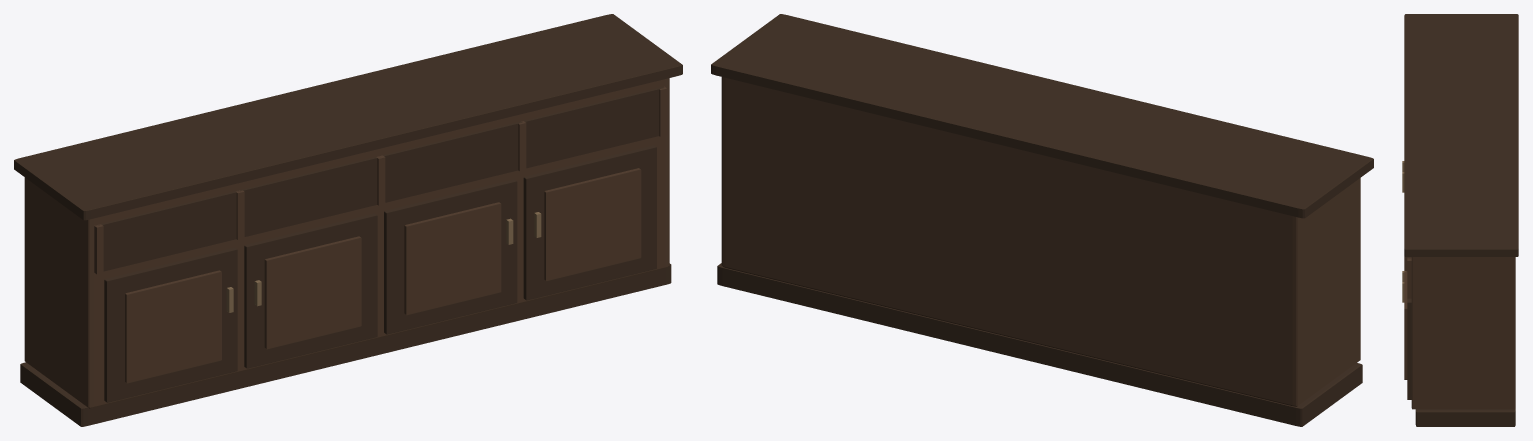
The model's file is dr_cred.glb.
The picture shows the model from 3 angles, left to right: view 1: azimuth 30°, elevation 25°; view 2: azimuth 150°, elevation 25°; view 3: azimuth 270°, elevation 25°; orthographic projection. The views are drawn at different scales.
Parts seen in each view (by area): view 1: dr_cred; view 2: dr_cred; view 3: dr_cred.
Boxes of the visible parts, box(x1,y1,x2,y2) form: dr_cred: box(14, 14, 682, 426); dr_cred: box(711, 14, 1373, 426); dr_cred: box(1402, 14, 1518, 426).
Bounding box in the file's own units: 2.68 × 0.9501 × 0.5601.
